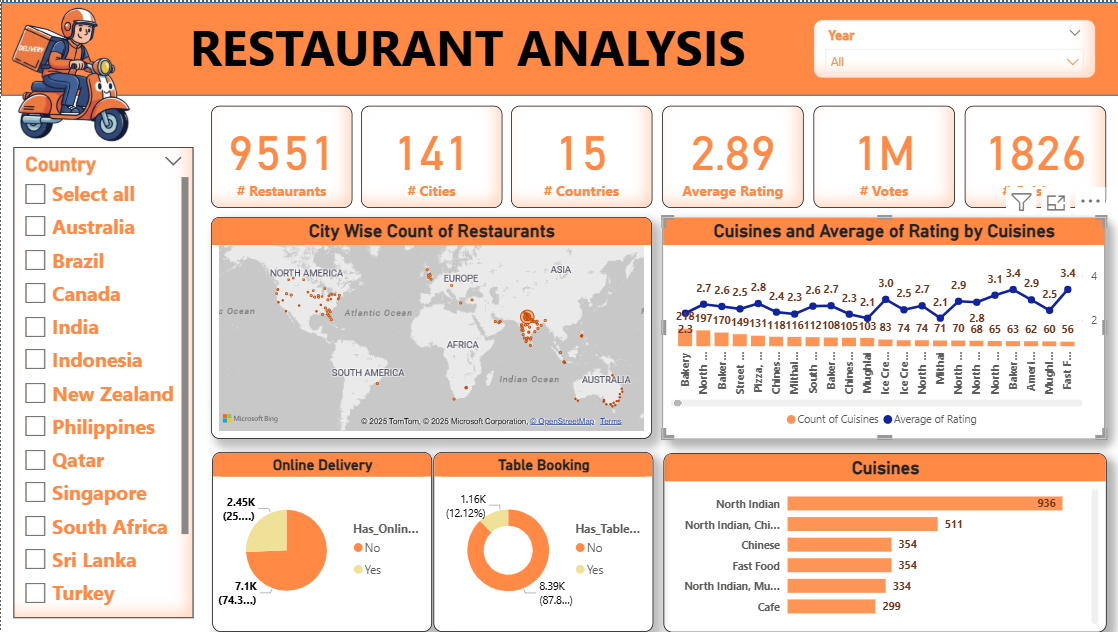

The page's visual inventory and layout, read from the dashboard file:
{"tool":"powerbi","page":{"name":"Page 1","canvas":[1280,720],"ordinal":0},"visuals":[{"type":"shape","box":[0,0,1280.3,107],"z":0},{"type":"image","box":[0,0,160.5,166],"z":1000},{"type":"textbox","box":[199,6.9,669.6,91.9],"z":2000},{"type":"card","fields":{"Values":["Count(restaurants.RestaurantID)"]},"box":[240,118.9,161.4,117.1],"z":3000},{"type":"card","fields":{"Values":["Count(restaurants.City)"]},"box":[411.4,118.9,161.4,117.1],"z":4000},{"type":"card","fields":{"Values":["Count(restaurants.CountryCode)"]},"box":[582.9,118.9,161.4,117.1],"z":5000},{"type":"card","fields":{"Values":["Avg(restaurants.Rating)"]},"box":[755.7,118.9,161.4,117.1],"z":6000},{"type":"card","fields":{"Values":["Sum(restaurants.Votes)"]},"box":[928.6,118.9,161.4,117.1],"z":7000},{"type":"card","fields":{"Values":["Count(restaurants.Cuisines)"]},"box":[1101.4,118.9,161.4,117.1],"z":8000},{"type":"slicer","fields":{"Values":["countries.country name"]},"box":[14.3,165.7,205.7,538.6],"z":9000},{"type":"lineStackedColumnComboChart","title":"Cuisines and Average of Rating by Cuisines","fields":{"Category":["restaurants.Cuisines"],"Y":["CountNonNull(restaurants.Cuisines)"],"Y2":["Avg(restaurants.Rating)"]},"box":[756.1,245.6,506.3,253.9],"z":10000},{"type":"map","title":"City Wise Count of Restaurants","fields":{"Category":["restaurants.City"],"Size":["CountNonNull(restaurants.RestaurantID)"]},"box":[240.1,245.6,503.6,253.9],"z":11000},{"type":"clusteredBarChart","title":"Cuisines","fields":{"Category":["restaurants.Cuisines"],"Y":["CountNonNull(restaurants.RestaurantID)"]},"box":[757.5,516,506.3,204.5],"z":12000},{"type":"pieChart","title":"Online Delivery","fields":{"Category":["restaurants.Has_Online_delivery"],"Y":["CountNonNull(restaurants.RestaurantID)"]},"box":[241.5,514.6,251.1,205.8],"z":13000},{"type":"donutChart","title":"Table Booking","fields":{"Category":["restaurants.Has_Table_booking"],"Y":["CountNonNull(restaurants.RestaurantID)"]},"box":[494,514.6,251.1,205.8],"z":14000},{"type":"slicer","fields":{"Values":["restaurants.Datekey_Opening.Variation.Date Hierarchy.Year"]},"box":[929,20.6,322.5,67.2],"z":14001}]}

Visuals, with their boxes in screenshot pixels (x1, y1, x2, y2), scaled from the page's 1280x720 canvas onto the 1118x632 screenshot:
shape: bbox=(0, 0, 1117, 94)
image: bbox=(0, 0, 140, 146)
textbox: bbox=(174, 6, 759, 87)
card - Count(restaurants.RestaurantID): bbox=(210, 104, 351, 207)
card - Count(restaurants.City): bbox=(359, 104, 500, 207)
card - Count(restaurants.CountryCode): bbox=(509, 104, 650, 207)
card - Avg(restaurants.Rating): bbox=(660, 104, 801, 207)
card - Sum(restaurants.Votes): bbox=(811, 104, 952, 207)
card - Count(restaurants.Cuisines): bbox=(962, 104, 1103, 207)
slicer - countries.country name: bbox=(12, 145, 192, 618)
"Cuisines and Average of Rating by Cuisines" lineStackedColumnComboChart: bbox=(660, 216, 1103, 438)
"City Wise Count of Restaurants" map: bbox=(210, 216, 650, 438)
"Cuisines" clusteredBarChart: bbox=(662, 453, 1104, 631)
"Online Delivery" pieChart: bbox=(211, 452, 430, 631)
"Table Booking" donutChart: bbox=(431, 452, 651, 631)
slicer - restaurants.Datekey_Opening.Variation.Date Hierarchy.Year: bbox=(811, 18, 1093, 77)
